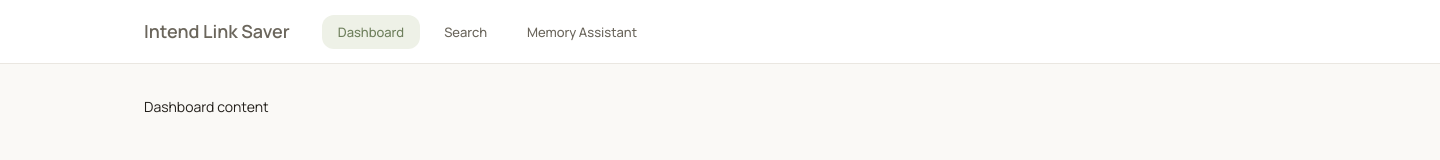
Test: AppShell › navigates to /search when the Search nav item is clicked
Click the button "Search" at coordinates (466, 32), box [428, 15, 503, 49]
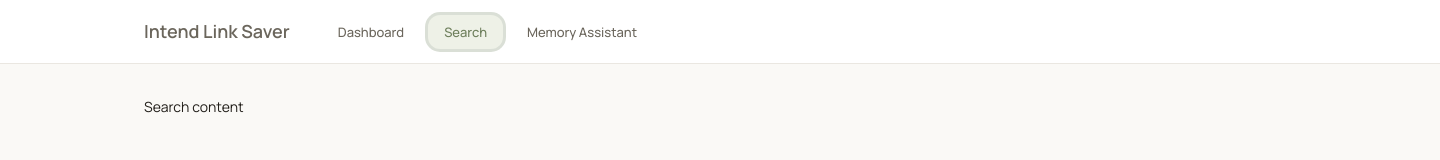
expect the text "Search content" is shown: met, box [144, 97, 244, 116]
